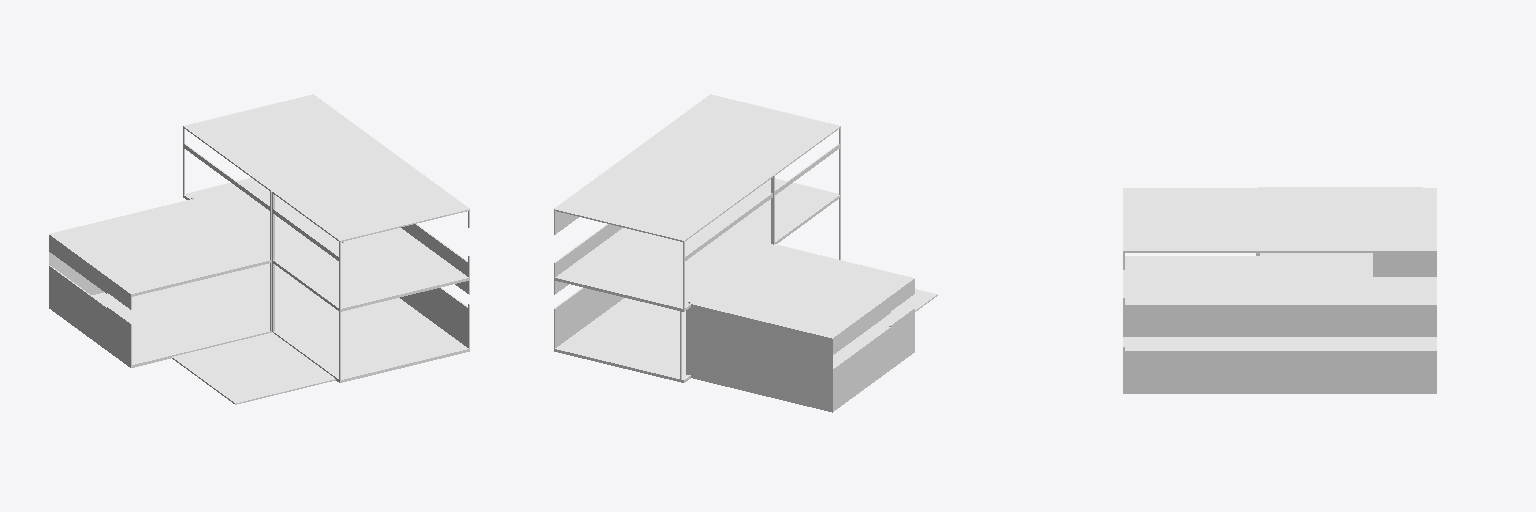
Rendered from L_House.obj.
The picture shows the model from 3 angles: view 1: azimuth 30°, elevation 25°; view 2: azimuth 150°, elevation 25°; view 3: azimuth 270°, elevation 25°; orthographic projection.
Parts seen in each view (by area): view 1: object 1; view 2: object 1; view 3: object 1.
Boxes of the visible parts, x1,y1,x2,y2 form: object 1: [49, 94, 469, 404]; object 1: [554, 94, 937, 412]; object 1: [1123, 187, 1436, 393].
Size of the model in its own units: 20 by 10 by 20.